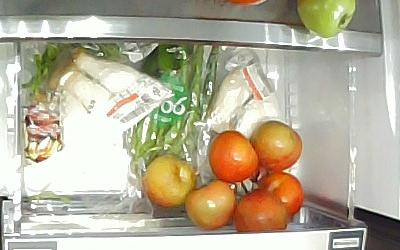prune: (140, 152, 196, 207), (248, 118, 302, 171), (207, 129, 259, 183), (183, 177, 237, 229), (232, 187, 288, 231), (256, 171, 304, 217)
